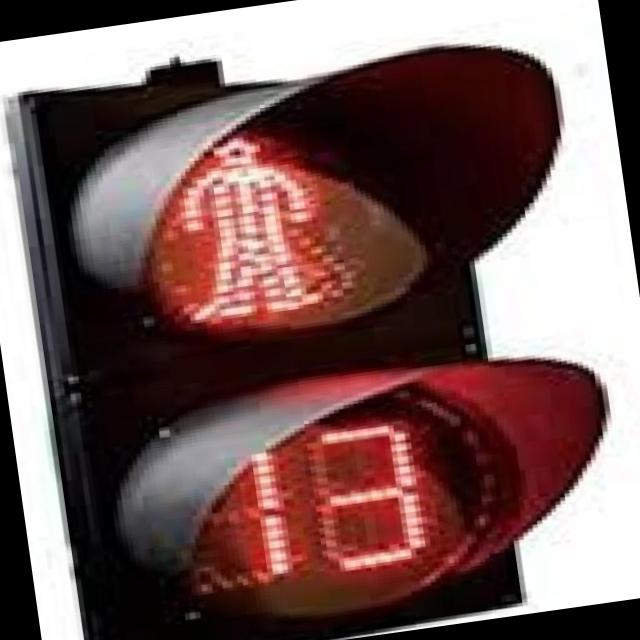red_light: (175, 122, 442, 590)
